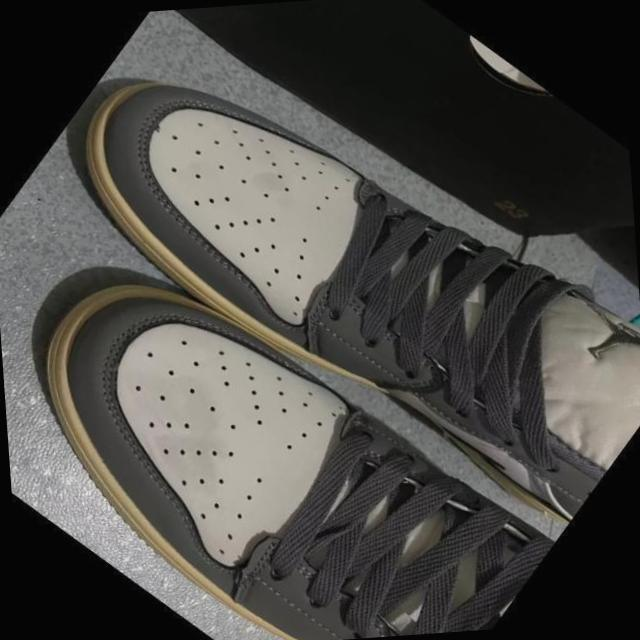nike_fake_jordan: (19, 0, 640, 586), (0, 189, 565, 640)
